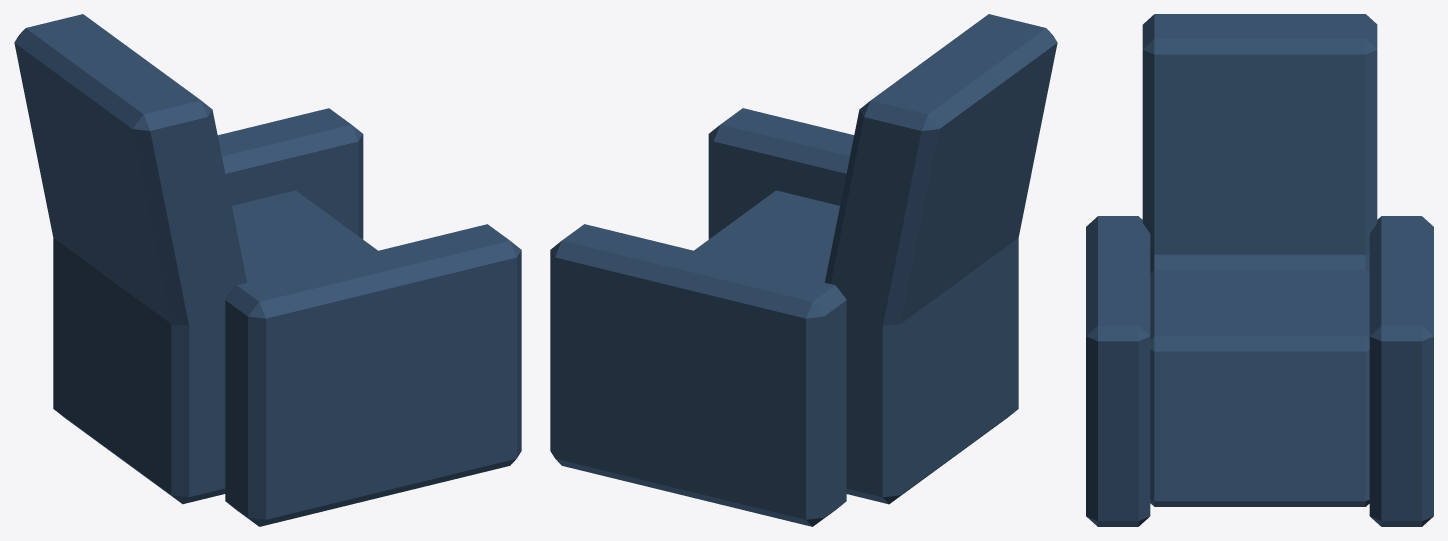
The model's file is couch.fbx.
The picture shows the model from 3 angles, left to right: view 1: azimuth 30°, elevation 25°; view 2: azimuth 150°, elevation 25°; view 3: azimuth 270°, elevation 25°; orthographic projection. The views are drawn at different scales.
Visible parts, largest first — view 1: Cube.053, Cube.055, Cube.058; view 2: Cube.053, Cube.058, Cube.055; view 3: Cube.053, Cube.055, Cube.058.
Boxes of the visible parts, bbox=[...] form: Cube.053: bbox=[14, 14, 377, 504]; Cube.055: bbox=[225, 224, 521, 526]; Cube.058: bbox=[217, 108, 363, 239]; Cube.053: bbox=[694, 14, 1057, 504]; Cube.058: bbox=[550, 224, 846, 526]; Cube.055: bbox=[708, 108, 853, 239]; Cube.053: bbox=[1142, 14, 1377, 506]; Cube.055: bbox=[1086, 216, 1150, 526]; Cube.058: bbox=[1369, 216, 1433, 526].
Size of the model in its own units: 3712 by 4066 by 3494.
